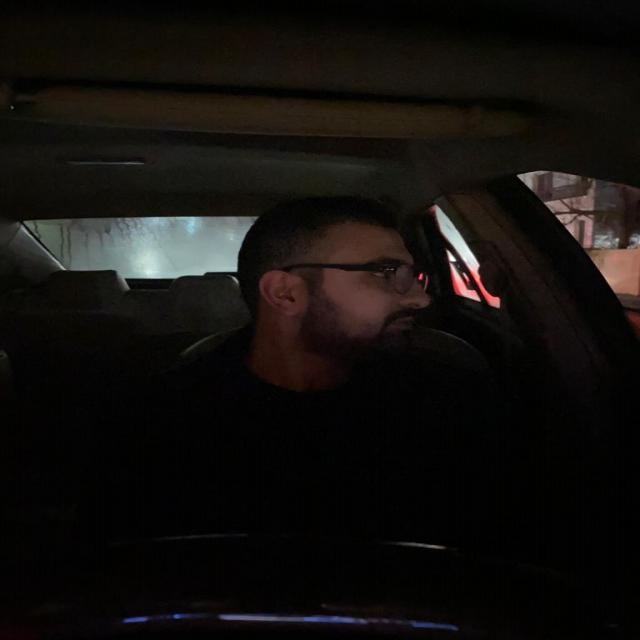LeftRight: (225, 210, 452, 373)
